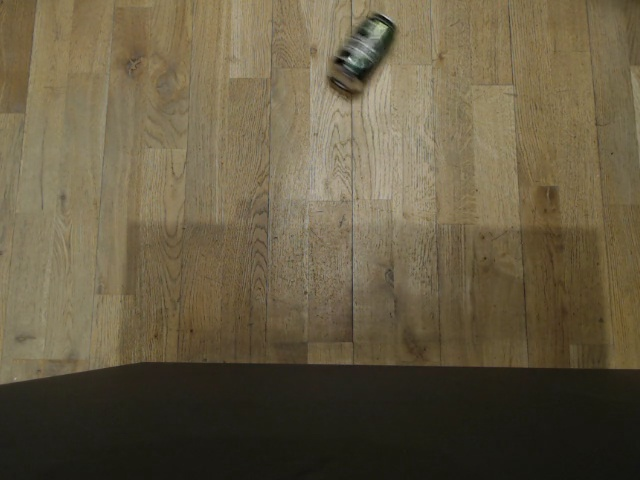beer: (321, 11, 402, 94)
